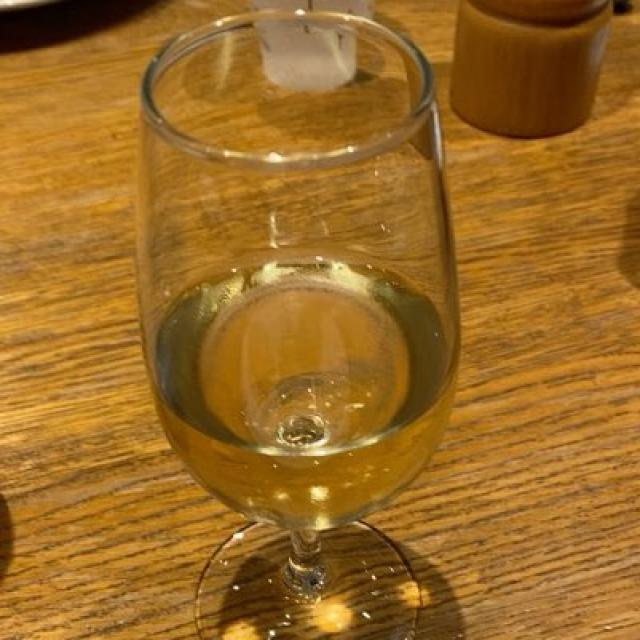wine: (148, 283, 474, 533)
